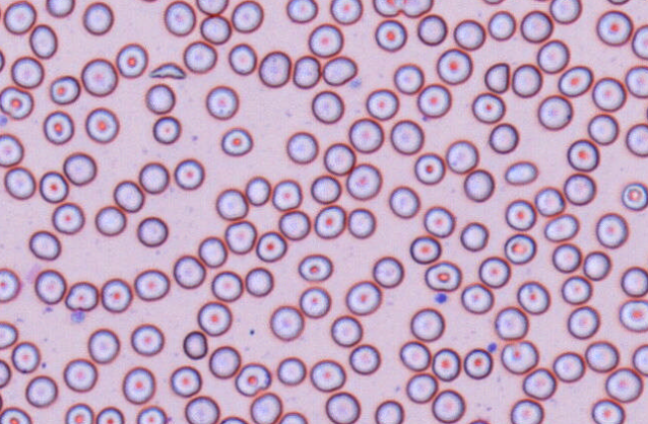PLT: (71, 310, 85, 324), (435, 293, 449, 304), (487, 343, 497, 352)
RBC: (80, 57, 117, 96), (604, 367, 643, 403), (345, 162, 381, 200), (436, 47, 472, 84), (596, 9, 632, 46), (537, 94, 573, 130), (269, 304, 304, 341), (84, 106, 119, 143), (500, 340, 538, 374), (348, 117, 383, 153), (345, 280, 381, 315), (122, 366, 155, 404), (416, 83, 451, 118), (591, 76, 626, 111), (307, 23, 343, 57), (309, 358, 345, 392), (258, 50, 291, 87), (431, 388, 465, 423), (409, 307, 444, 341), (389, 119, 423, 154), (197, 301, 231, 336), (115, 42, 148, 78), (595, 212, 628, 248), (133, 268, 169, 301), (62, 151, 96, 185), (494, 306, 528, 340), (63, 358, 97, 392), (566, 305, 600, 339), (205, 85, 238, 120), (172, 254, 205, 289), (163, 0, 195, 36), (557, 65, 593, 97), (34, 268, 66, 304), (424, 260, 461, 291), (3, 0, 36, 34), (522, 367, 556, 400), (183, 40, 217, 73), (0, 85, 33, 119), (10, 55, 44, 88), (130, 323, 164, 356), (520, 9, 553, 43), (536, 39, 569, 73), (445, 139, 478, 173), (516, 280, 549, 314), (325, 391, 360, 423), (100, 277, 132, 312), (584, 340, 619, 372), (313, 204, 345, 239), (87, 328, 119, 363), (566, 138, 599, 171), (215, 187, 248, 220), (311, 90, 344, 123), (563, 172, 596, 205), (224, 220, 256, 254), (365, 88, 399, 120), (471, 91, 505, 123), (42, 110, 74, 144), (322, 55, 357, 86), (231, 0, 263, 33), (3, 166, 35, 199), (25, 374, 57, 407), (374, 19, 407, 51), (323, 142, 355, 175), (413, 152, 445, 185), (286, 131, 318, 164), (169, 365, 202, 397), (208, 345, 240, 378), (330, 314, 362, 347), (478, 255, 510, 288), (460, 282, 493, 314), (388, 185, 420, 218), (51, 202, 84, 234), (82, 1, 113, 35), (511, 63, 542, 97), (463, 168, 494, 202), (543, 213, 579, 242), (348, 343, 380, 375), (453, 18, 485, 50), (423, 205, 455, 237), (136, 215, 168, 247), (504, 198, 536, 230), (298, 286, 330, 318), (249, 392, 282, 423), (113, 179, 144, 212), (173, 157, 204, 190), (138, 161, 169, 194), (503, 233, 536, 264), (210, 270, 243, 301), (552, 351, 585, 382), (372, 255, 403, 288), (28, 229, 61, 260), (28, 23, 57, 58), (405, 372, 437, 403), (416, 13, 447, 45), (393, 62, 424, 94), (255, 230, 286, 262), (271, 178, 302, 210), (94, 205, 126, 236), (587, 113, 618, 145), (38, 170, 68, 203), (65, 281, 98, 311), (431, 347, 460, 381), (184, 395, 219, 423), (297, 253, 332, 281), (144, 83, 175, 114), (399, 340, 430, 371), (199, 14, 231, 44), (220, 126, 252, 156), (278, 210, 310, 240), (227, 42, 256, 75), (618, 299, 647, 332), (310, 174, 341, 204), (488, 122, 518, 153), (49, 74, 80, 104), (534, 186, 565, 216), (409, 235, 441, 264), (11, 341, 40, 373), (560, 275, 592, 304), (198, 235, 227, 267), (463, 347, 492, 379), (292, 55, 320, 88), (551, 243, 581, 273), (459, 221, 488, 251), (276, 356, 306, 385), (487, 10, 516, 40), (582, 250, 611, 280), (244, 266, 273, 296), (347, 207, 375, 238), (620, 265, 647, 297), (509, 398, 543, 423), (591, 398, 625, 423), (504, 160, 537, 185), (152, 115, 180, 144), (621, 181, 648, 211), (244, 175, 270, 206), (329, 0, 362, 24), (0, 132, 23, 166), (549, 0, 581, 24), (624, 65, 647, 98), (182, 330, 208, 359), (625, 122, 647, 156), (285, 0, 317, 23), (374, 399, 404, 423), (0, 267, 20, 302), (64, 402, 93, 423), (135, 405, 167, 423), (631, 24, 647, 59), (400, 0, 432, 17), (0, 406, 31, 423), (0, 320, 18, 349), (45, 0, 75, 17), (632, 343, 647, 376), (195, 0, 228, 15), (372, 0, 401, 17), (95, 406, 124, 423), (278, 411, 307, 423), (0, 358, 11, 388), (219, 415, 248, 423), (467, 417, 490, 423), (605, 0, 631, 5), (0, 47, 5, 72), (0, 112, 8, 127), (481, 0, 505, 5), (134, 0, 160, 3), (645, 103, 648, 124), (0, 392, 3, 411), (530, 0, 552, 2)
Schistocyte: (234, 361, 272, 397), (484, 61, 510, 93), (148, 60, 186, 80)
